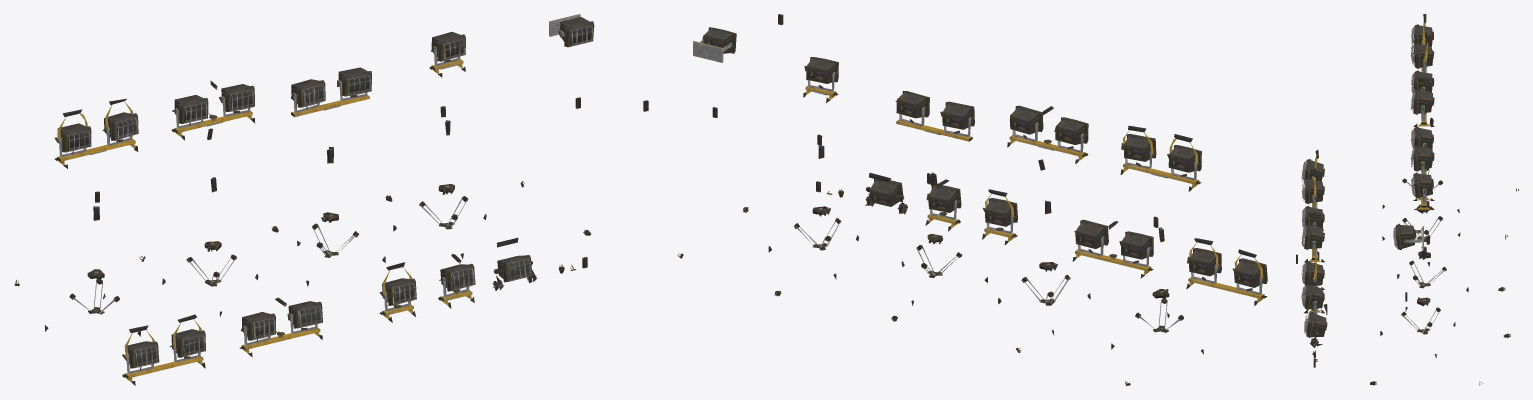
The model's file is flood_lights_lod2.glb.
3 renders of one model, left to right at view 1: azimuth 30°, elevation 25°; view 2: azimuth 150°, elevation 25°; view 3: azimuth 270°, elevation 25°, orthographic. The views are drawn at different scales.
Visible parts, largest first — view 1: flood_lights_cable_a_geo, flood_lights_floor_double_a_light_01; view 2: flood_lights_cable_a_geo; view 3: flood_lights_cable_a_geo.
Part boxes in pixels (left/top/right/bottom): flood_lights_cable_a_geo: left=14, top=14, right=648, bottom=385; flood_lights_floor_double_a_light_01: left=67, top=27, right=591, bottom=366; flood_lights_cable_a_geo: left=677, top=14, right=1267, bottom=385; flood_lights_cable_a_geo: left=1296, top=14, right=1518, bottom=385.
Bounding box in the file's own units: 4.54 × 1.79 × 2.04.
Materials: 2 (2 with a texture image).
